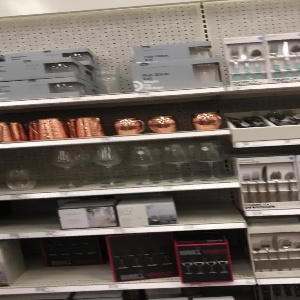void: (8, 240, 109, 286), (1, 199, 57, 235), (179, 191, 242, 221)
